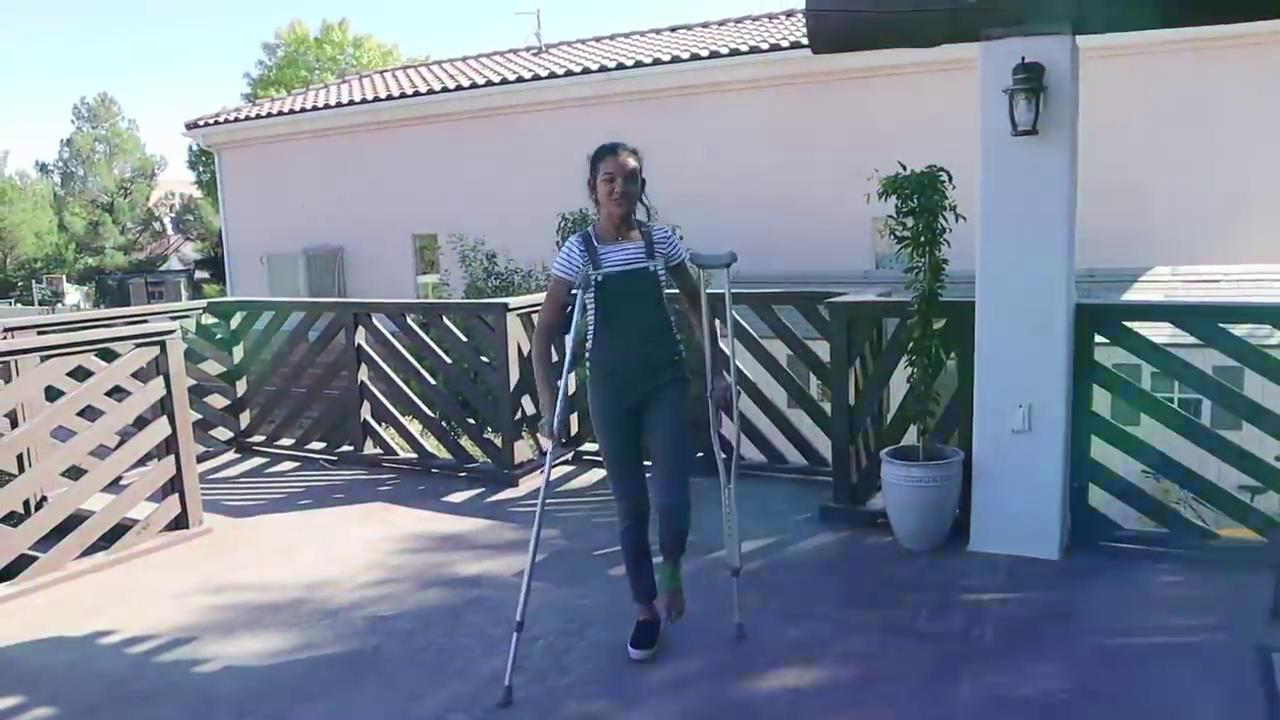crutches: (498, 143, 746, 702)
